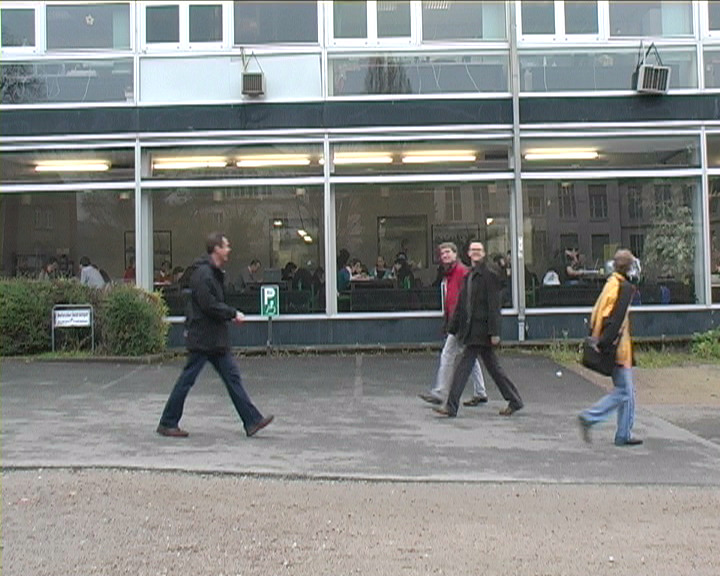deflection: (434, 237, 504, 314), (593, 244, 651, 330)
